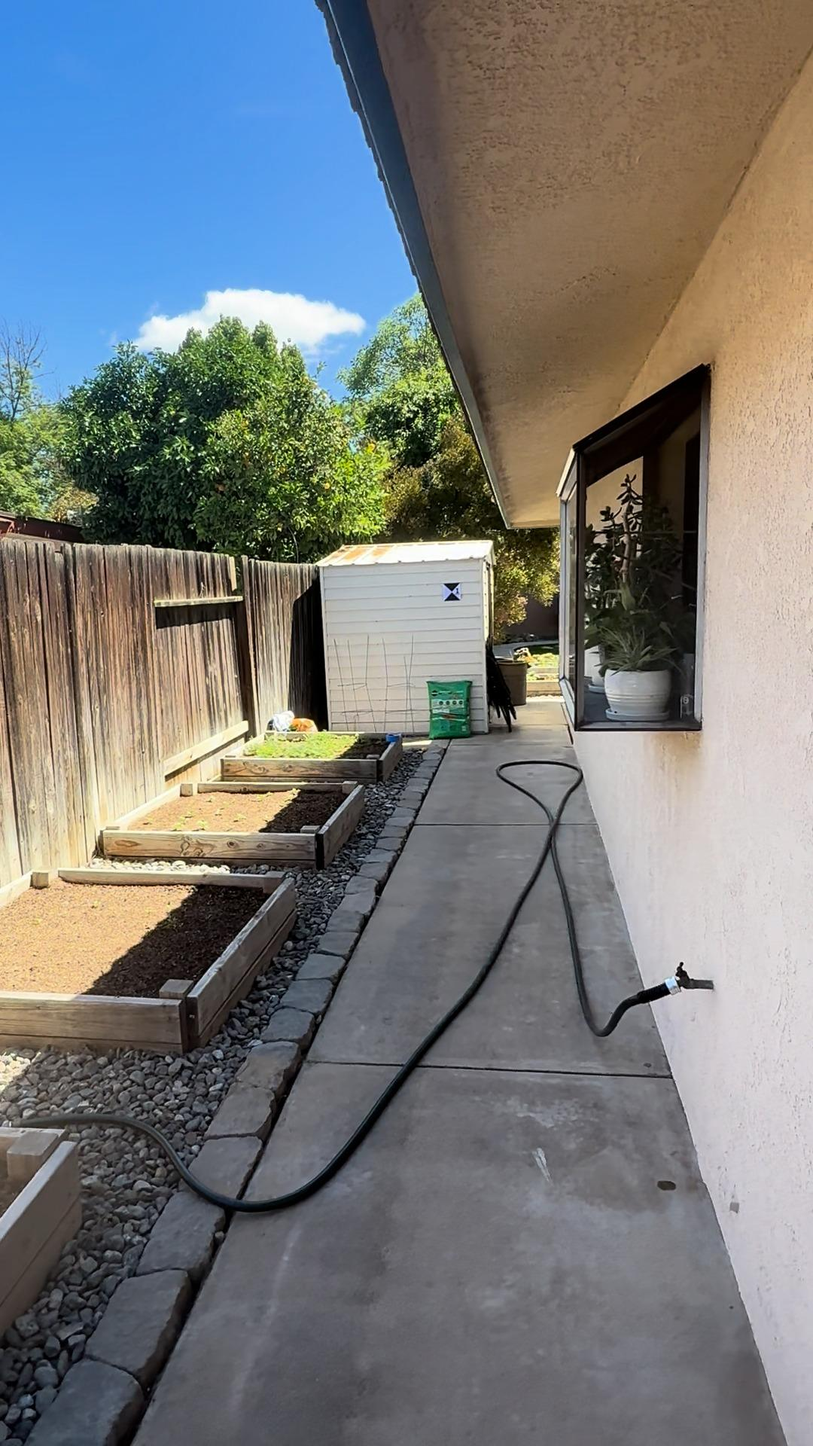target1: (441, 581, 462, 602)
